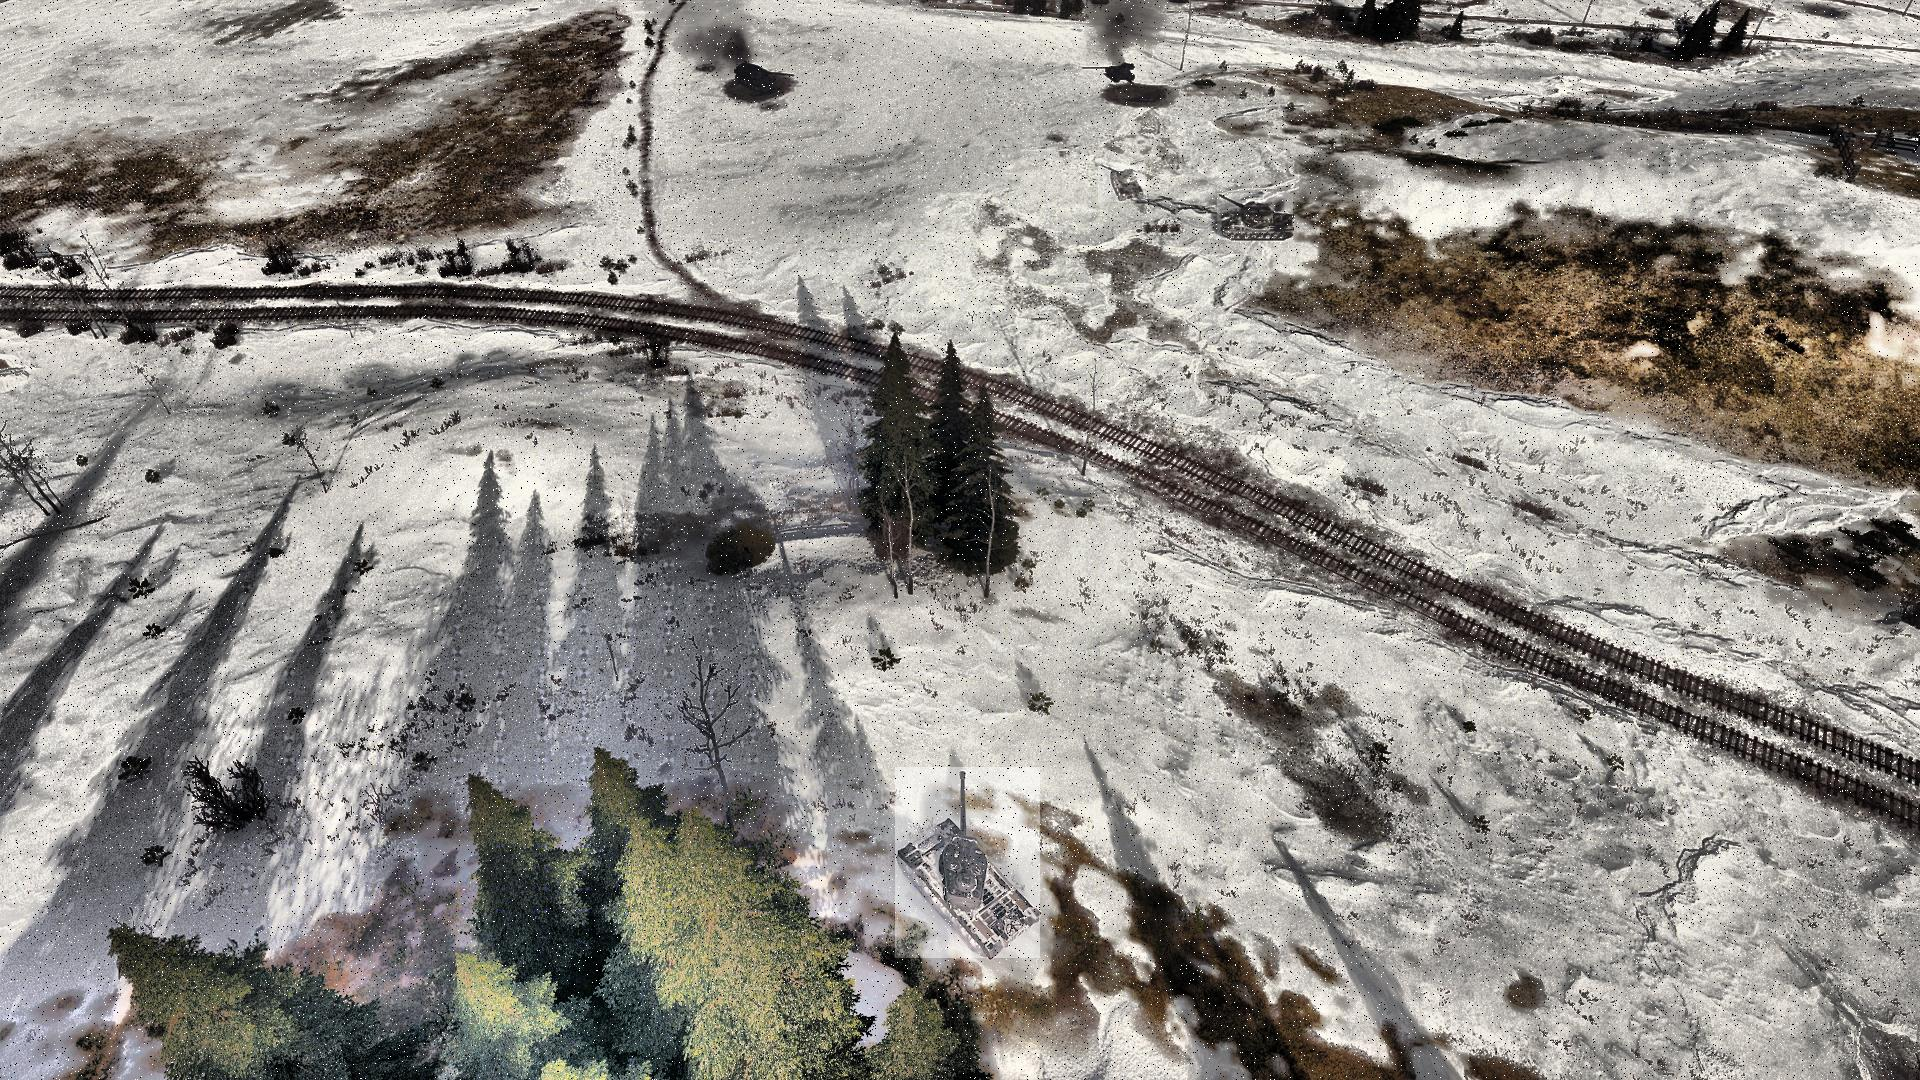military-vehicle: (895, 767, 1040, 959), (1217, 194, 1294, 240), (1098, 164, 1146, 203)
